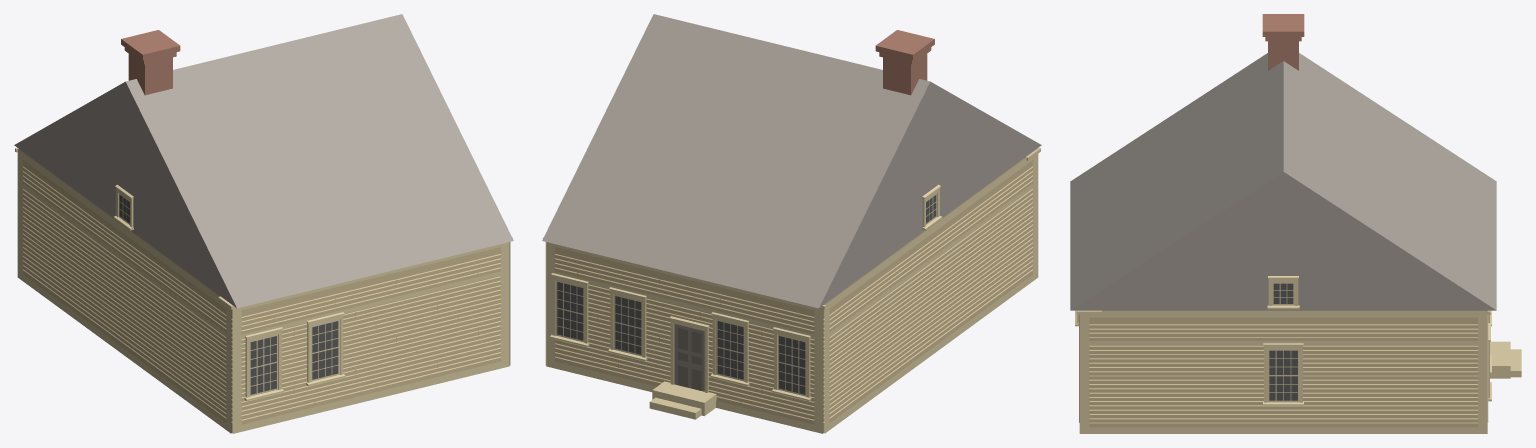
Rendered from recon_1835_blk_washington_market_h1_07__inferred_1835.glb.
3 views of the same model, side by side, from view 1: azimuth 30°, elevation 25°; view 2: azimuth 150°, elevation 25°; view 3: azimuth 270°, elevation 25° (orthographic). The views are drawn at different scales.
Parts seen in each view (by area): view 1: recon_1835_blk_washington_market_h1_07__inferred_1835; view 2: recon_1835_blk_washington_market_h1_07__inferred_1835; view 3: recon_1835_blk_washington_market_h1_07__inferred_1835.
Part boxes in pixels (bbox=[...]): recon_1835_blk_washington_market_h1_07__inferred_1835: bbox=[14, 14, 513, 433]; recon_1835_blk_washington_market_h1_07__inferred_1835: bbox=[542, 14, 1041, 433]; recon_1835_blk_washington_market_h1_07__inferred_1835: bbox=[1070, 14, 1521, 433].
Bounding box in the file's own units: 8.47 × 8.73 × 12.17.
